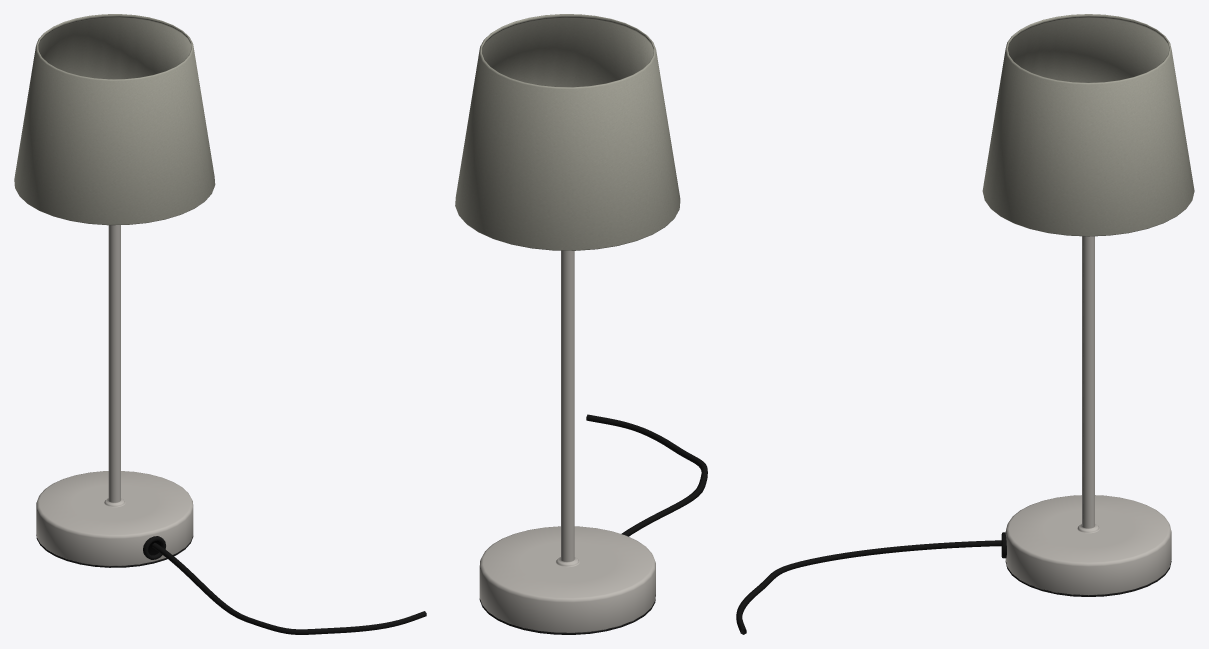
3 renders of one model, left to right at view 1: azimuth 30°, elevation 25°; view 2: azimuth 150°, elevation 25°; view 3: azimuth 270°, elevation 25°, orthographic. The views are drawn at different scales.
Visible parts, largest first — view 1: Lamp; view 2: Lamp; view 3: Lamp.
Boxes of the visible parts, box(x1,y1,x2,y2) form: Lamp: box(14, 14, 426, 634); Lamp: box(455, 14, 707, 634); Lamp: box(736, 14, 1194, 634).
Size of the model in its own units: 343 by 683 by 552.
Materials: 1 (1 with a texture image).
